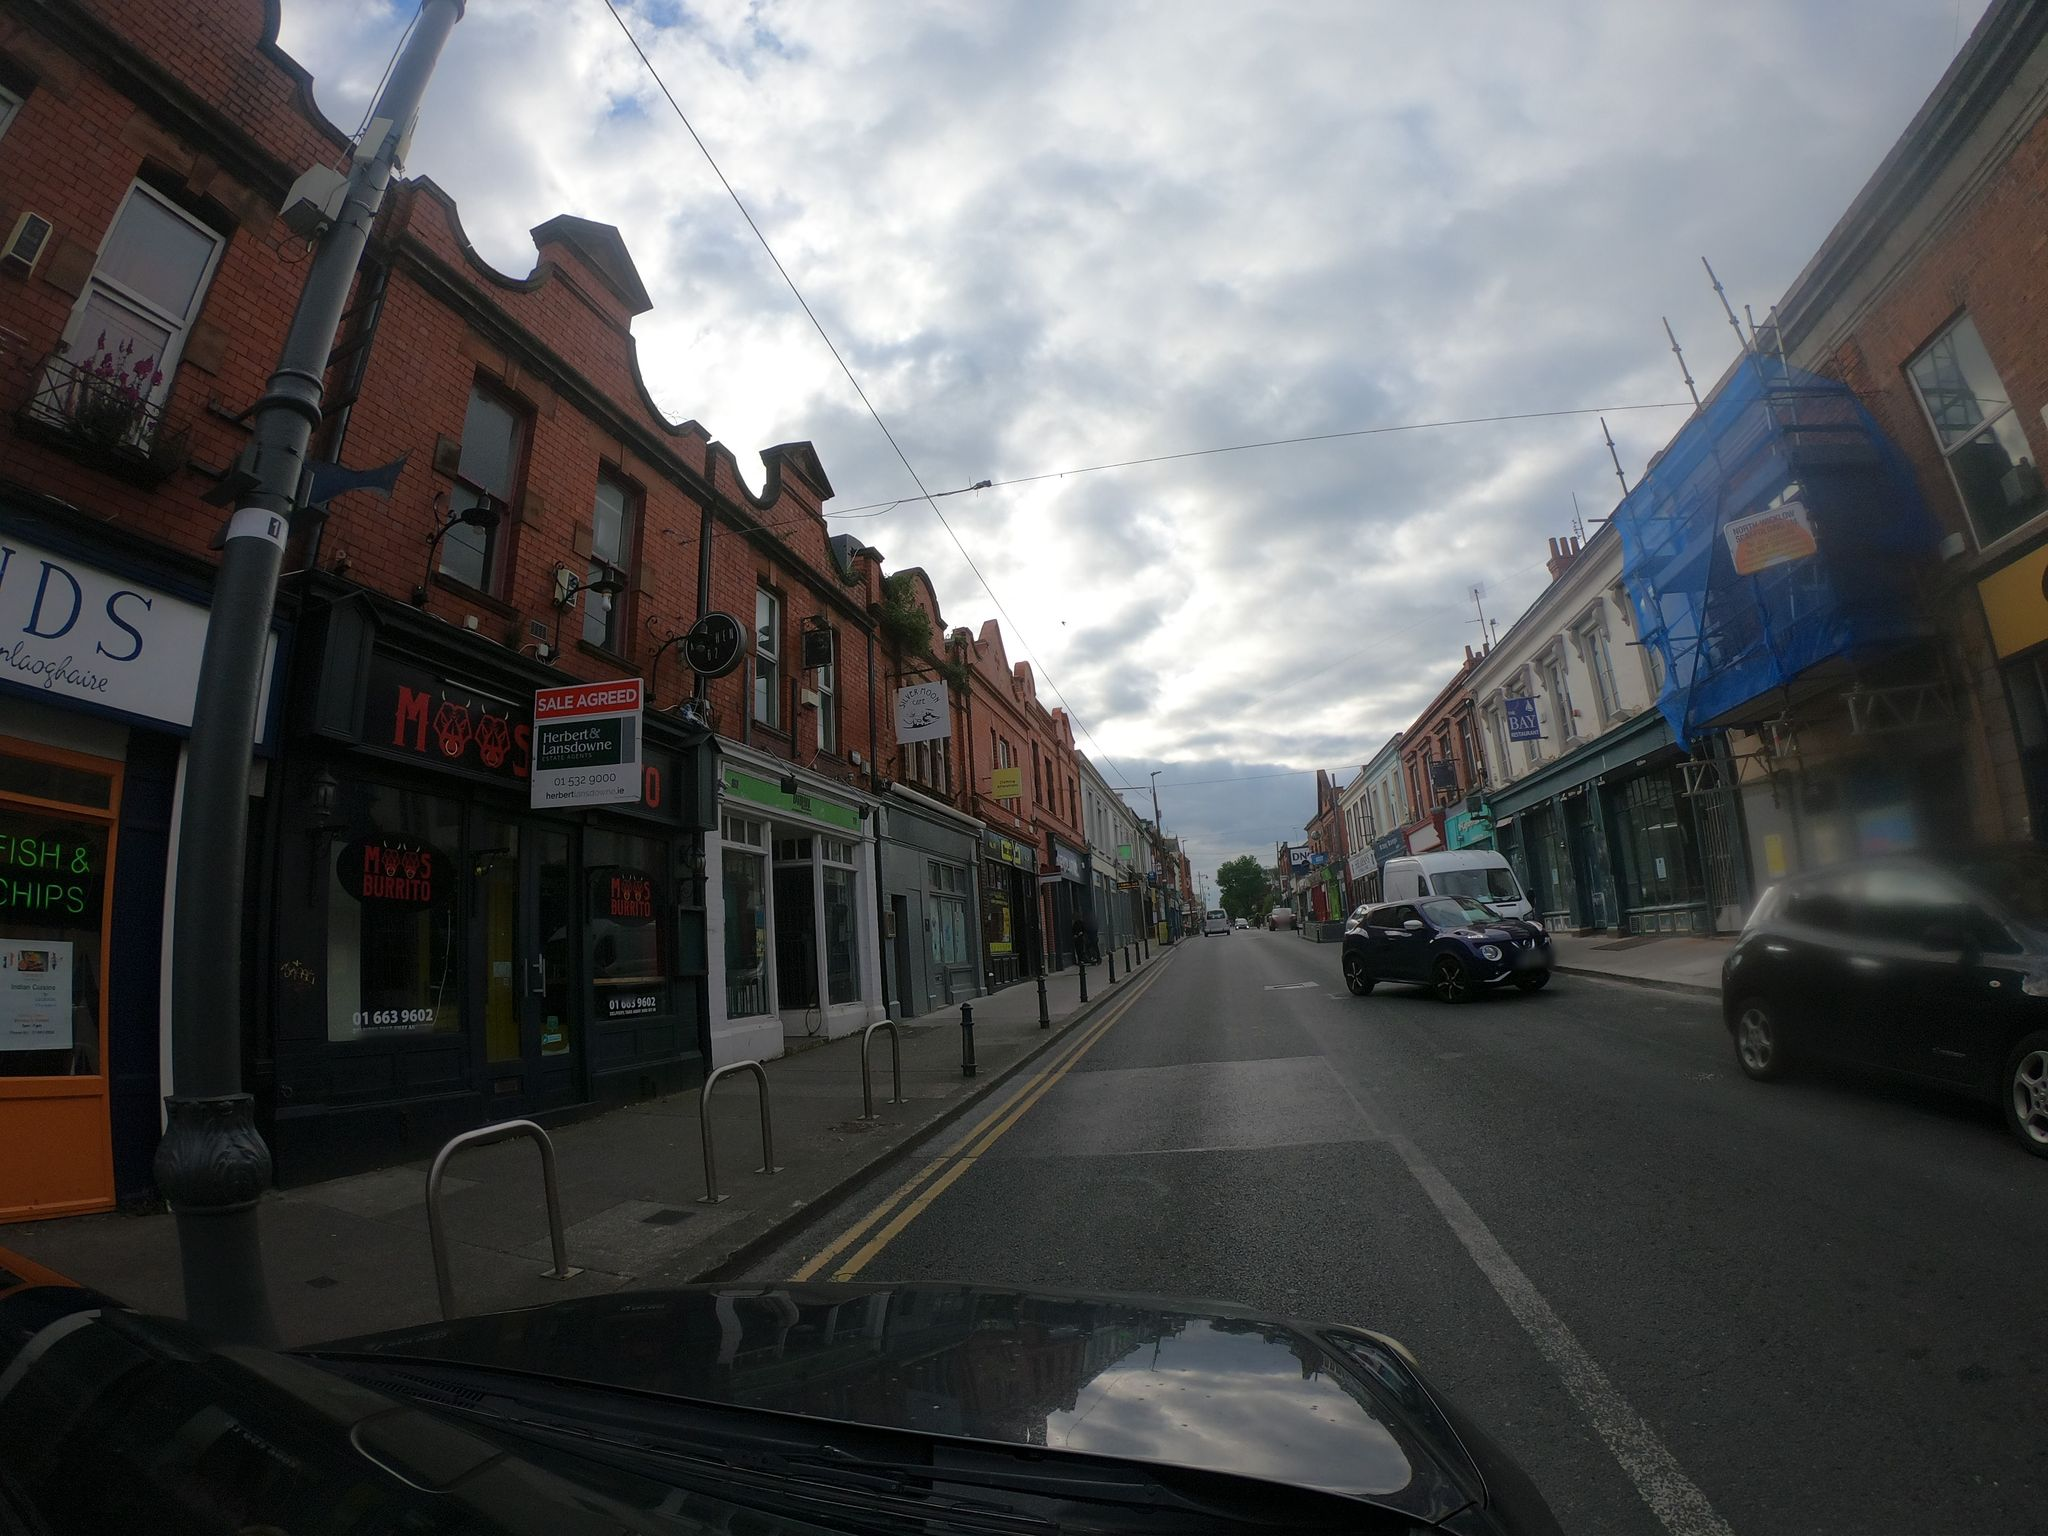property sign: (531, 674, 643, 823)
